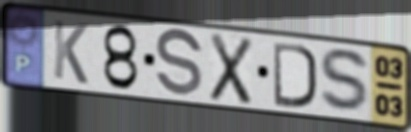8: (102, 23, 140, 91)
D: (271, 39, 320, 111)
K: (51, 17, 90, 87)
S: (317, 46, 375, 116), (154, 26, 205, 101)
X: (208, 31, 255, 108)
